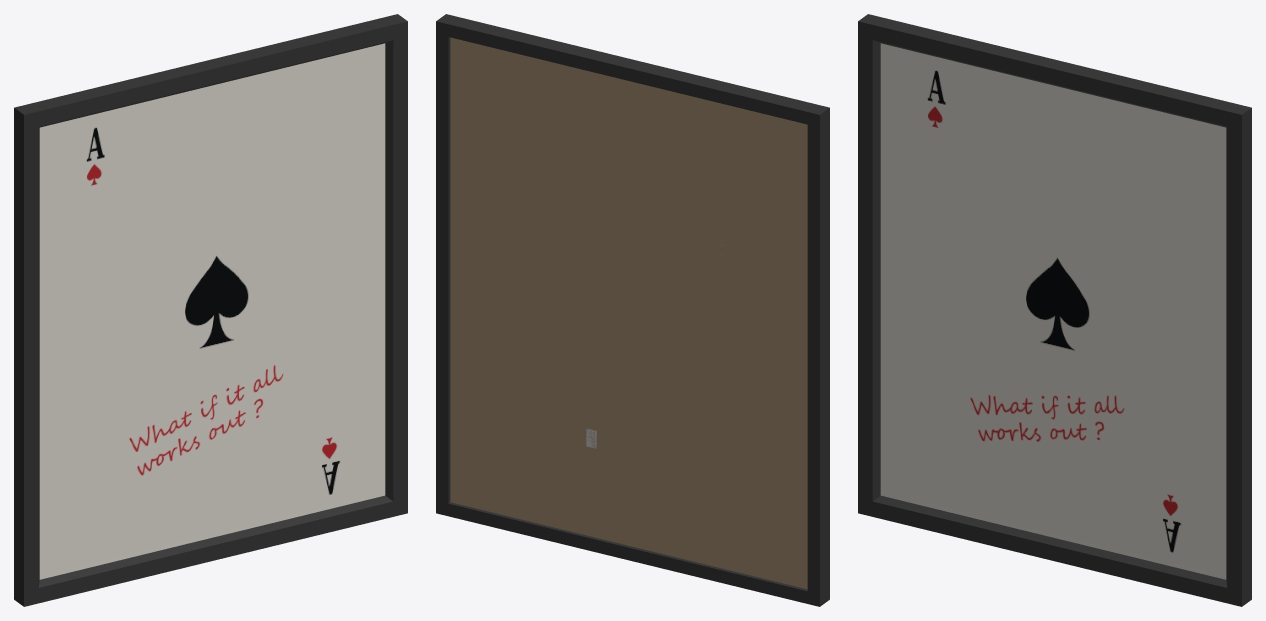
File: what-if-40x50.glb
The picture shows the model from 3 angles, left to right: view 1: azimuth 30°, elevation 25°; view 2: azimuth 150°, elevation 25°; view 3: azimuth 330°, elevation 25°; orthographic projection.
Visible parts, largest first — view 1: LAWHA 40x50; view 2: LAWHA 40x50; view 3: LAWHA 40x50.
Part boxes in pixels (x1,y1,x2,y2): LAWHA 40x50: [14, 14, 407, 606]; LAWHA 40x50: [436, 14, 829, 606]; LAWHA 40x50: [858, 14, 1251, 606].
Bounding box in the file's own units: 0.444 × 0.544 × 0.02.
4 materials, 1 textured.
